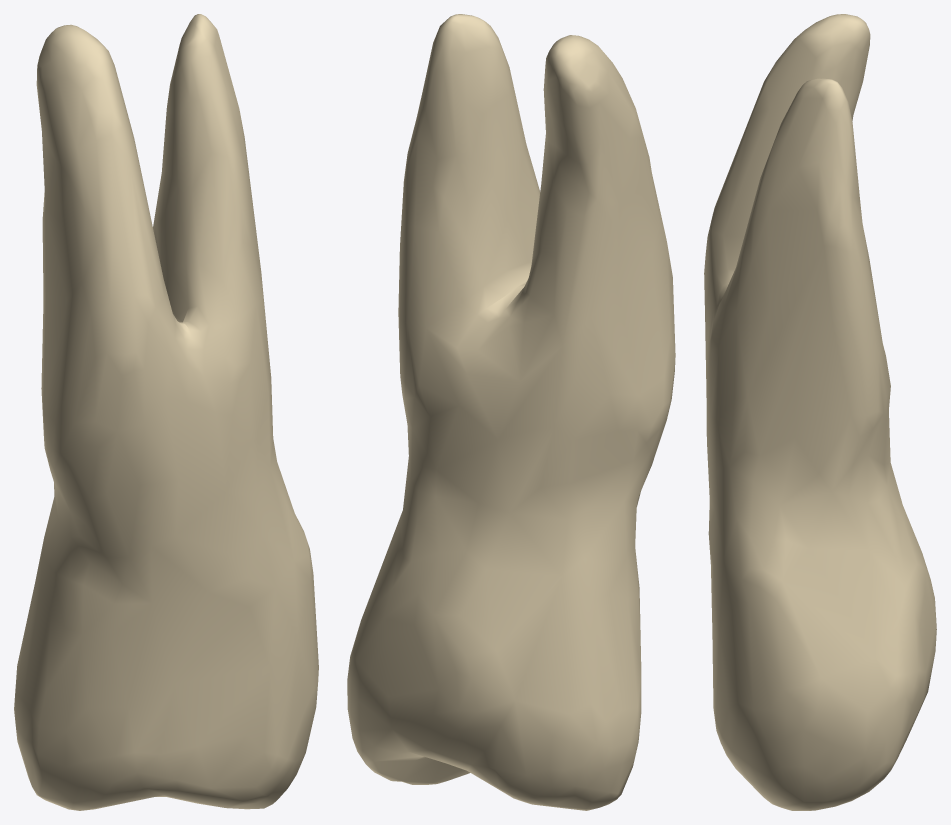
The model's file is tooth-25.glb.
3 views of the same model, side by side, from view 1: azimuth 30°, elevation 25°; view 2: azimuth 150°, elevation 25°; view 3: azimuth 270°, elevation 25° (orthographic). The views are drawn at different scales.
Parts seen in each view (by area): view 1: tooth-25; view 2: tooth-25; view 3: tooth-25.
Part boxes in pixels (box(x1,y1,x2,y2)): tooth-25: box(14, 14, 318, 810); tooth-25: box(347, 14, 675, 810); tooth-25: box(704, 14, 936, 810).
Size of the model in its own units: 0.2324 by 0.6485 by 0.1894.
